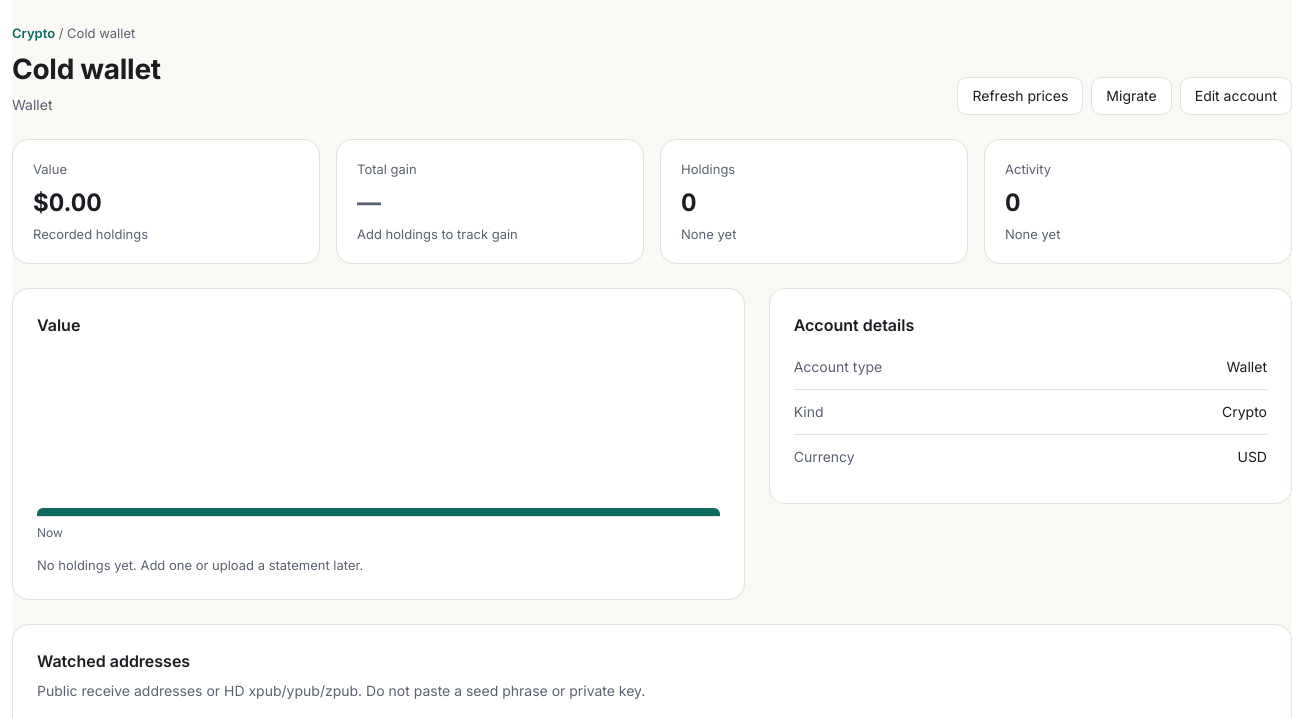
Test: InvestmentDetailPage migrate › only lists another account of the same kind and type
Click the button "Migrate".
click(1132, 96)  # box [1091, 77, 1172, 115]
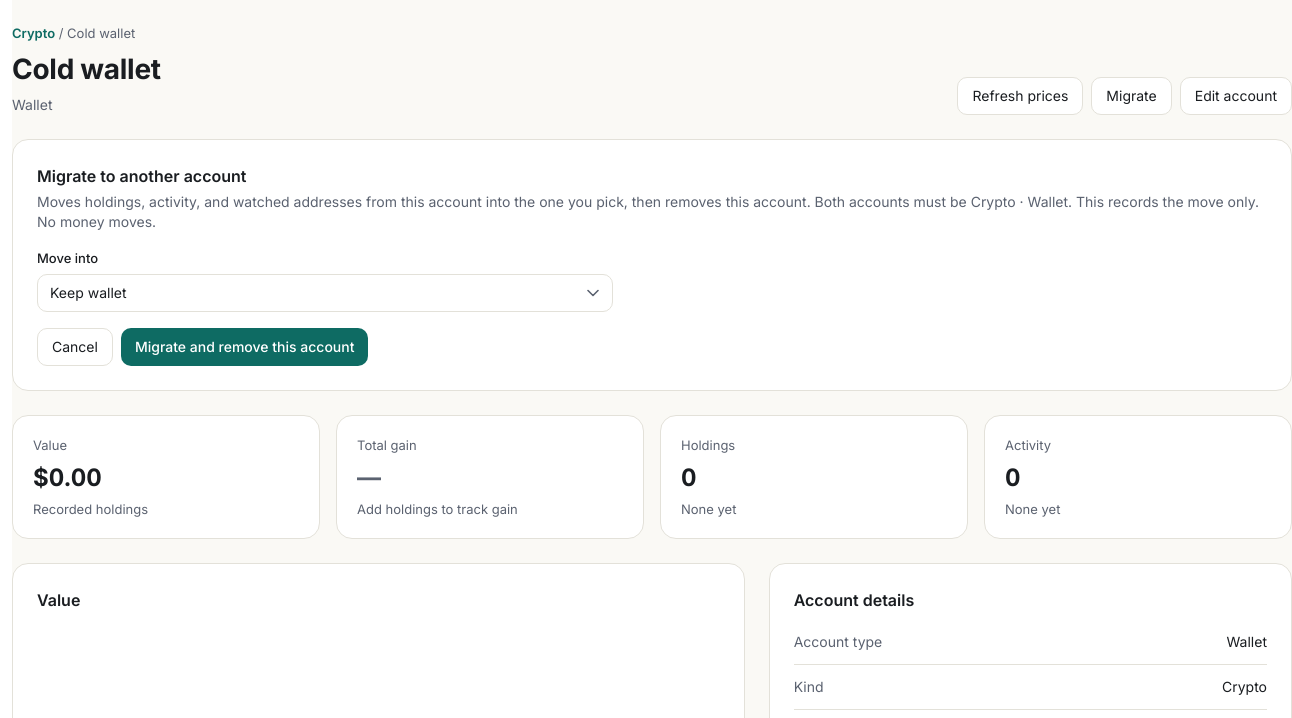
Check: the dropdown labelled "Move into" is shown, box [37, 274, 613, 312]
